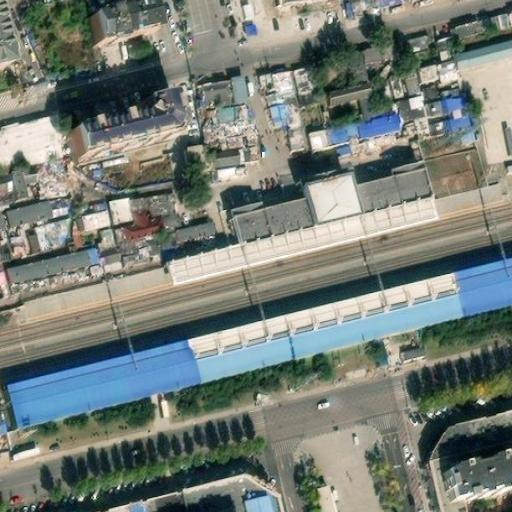building: (186, 258, 511, 386), (170, 195, 436, 282), (0, 339, 201, 434), (230, 157, 436, 245), (107, 189, 219, 269), (427, 409, 512, 512), (66, 102, 173, 167), (396, 28, 461, 95), (179, 472, 278, 512), (0, 117, 64, 175), (360, 41, 410, 114), (202, 121, 268, 176), (5, 246, 102, 283), (444, 455, 512, 504), (82, 8, 152, 52), (190, 72, 253, 113), (12, 161, 65, 207), (268, 101, 310, 159), (317, 51, 369, 96), (197, 99, 258, 135), (421, 84, 464, 135), (453, 34, 512, 71), (415, 125, 477, 159), (94, 490, 184, 512), (395, 92, 433, 144), (305, 120, 361, 154), (327, 84, 377, 120), (68, 199, 113, 237), (260, 69, 301, 109), (34, 214, 77, 250), (355, 109, 403, 140), (297, 91, 331, 133), (0, 3, 19, 65), (292, 62, 325, 97), (449, 14, 484, 39), (312, 479, 338, 512), (90, 254, 125, 277), (95, 227, 120, 259), (239, 495, 269, 512), (183, 140, 206, 161), (490, 8, 512, 28), (0, 414, 7, 436)
